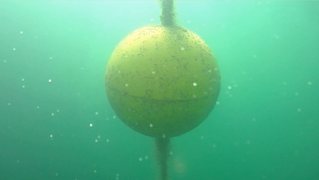buoy: (104, 23, 222, 140)
